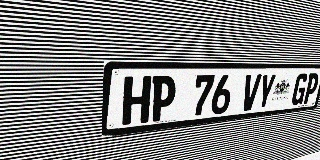6: (210, 75, 234, 115)
7: (190, 75, 215, 117)
G: (290, 73, 309, 105)
H: (122, 76, 152, 125)
P: (149, 76, 177, 122), (302, 73, 320, 104)
V: (240, 74, 262, 111)
Y: (255, 74, 277, 110)
